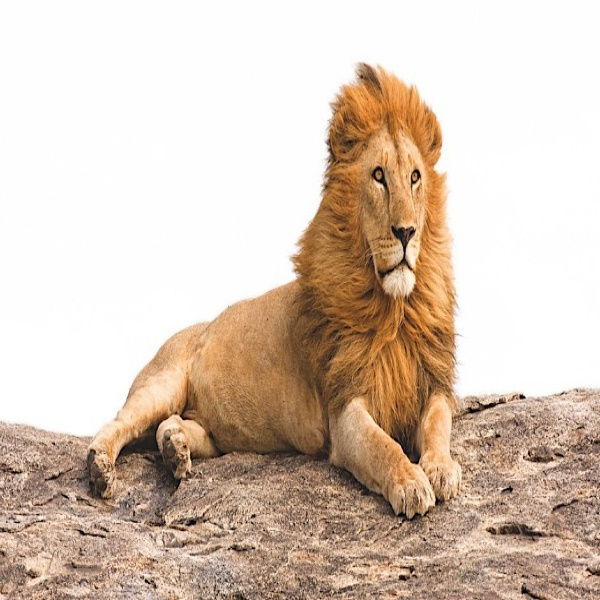Lion: (85, 55, 467, 521)
